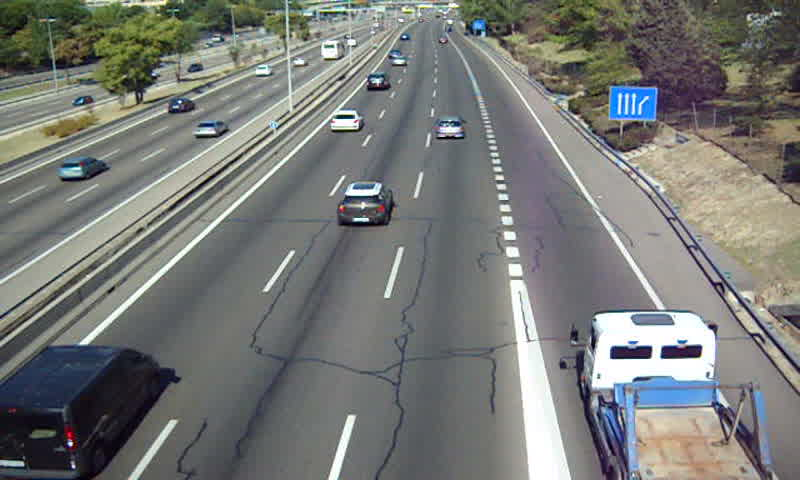car: (337, 182, 391, 228), (328, 110, 363, 132), (435, 115, 464, 139), (363, 74, 389, 93), (390, 55, 408, 69)
small-truck: (581, 312, 775, 480)
van: (1, 346, 159, 480)
